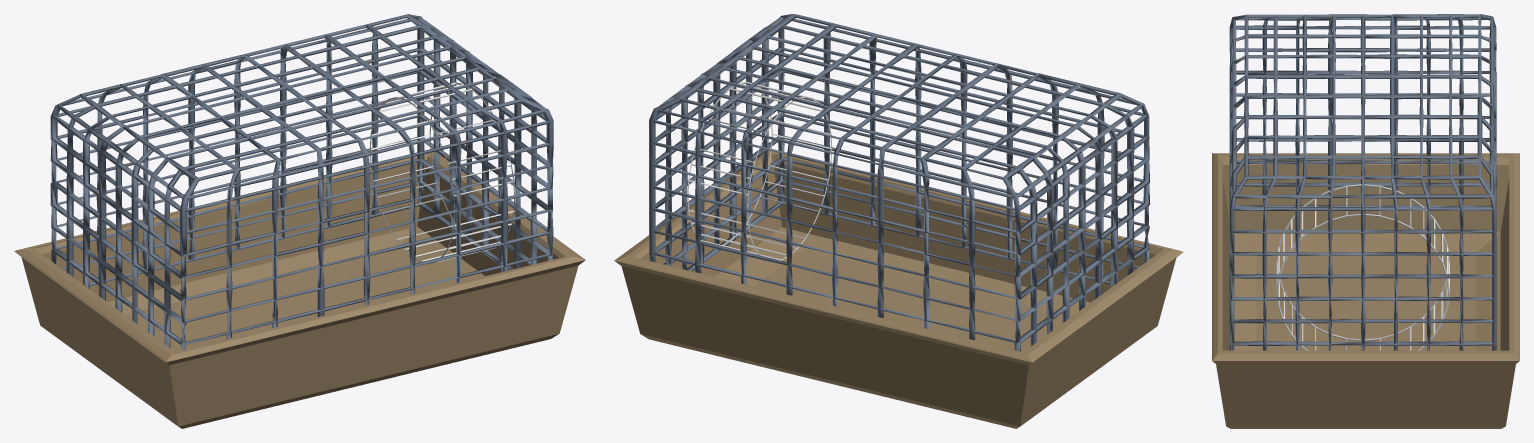
File: rat_cage.fbx
3 views of the same model, side by side, from view 1: azimuth 30°, elevation 25°; view 2: azimuth 150°, elevation 25°; view 3: azimuth 270°, elevation 25° (orthographic).
Visible parts, largest first — view 1: Cube.001, Cube, Cylinder; view 2: Cube.001, Cube, Cylinder; view 3: Cube.001, Cube, Cylinder.
Boxes of the visible parts, bbox=[...] form: Cube.001: bbox=[14, 152, 585, 428]; Cube: bbox=[50, 14, 553, 350]; Cylinder: bbox=[369, 82, 514, 264]; Cube.001: bbox=[614, 150, 1183, 428]; Cube: bbox=[649, 14, 1150, 351]; Cylinder: bbox=[687, 81, 832, 262]; Cube.001: bbox=[1212, 153, 1519, 428]; Cube: bbox=[1229, 14, 1496, 350]; Cylinder: bbox=[1276, 184, 1449, 350].
Bounding box in the file's own units: 496 × 271 × 311.
